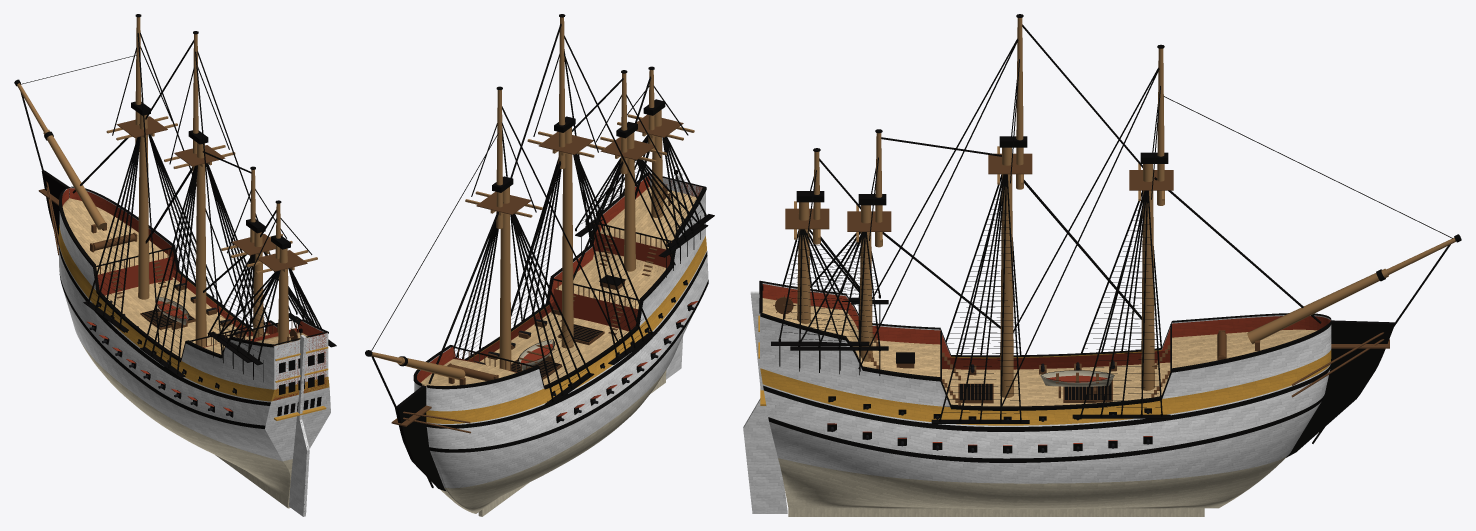
File: galleon.glb
3 renders of one model, left to right at view 1: azimuth 30°, elevation 25°; view 2: azimuth 150°, elevation 25°; view 3: azimuth 270°, elevation 25°, orthographic. The views are drawn at different scales.
Visible parts, largest first — view 1: hull; view 2: hull; view 3: hull.
Part boxes in pixels (left/top/right/bottom): hull: left=14, top=14, right=336, bottom=516; hull: left=365, top=14, right=714, bottom=516; hull: left=743, top=14, right=1461, bottom=516.
Size of the model in its own units: 12.34 by 41.11 by 53.49.
9 materials, 5 textured.
